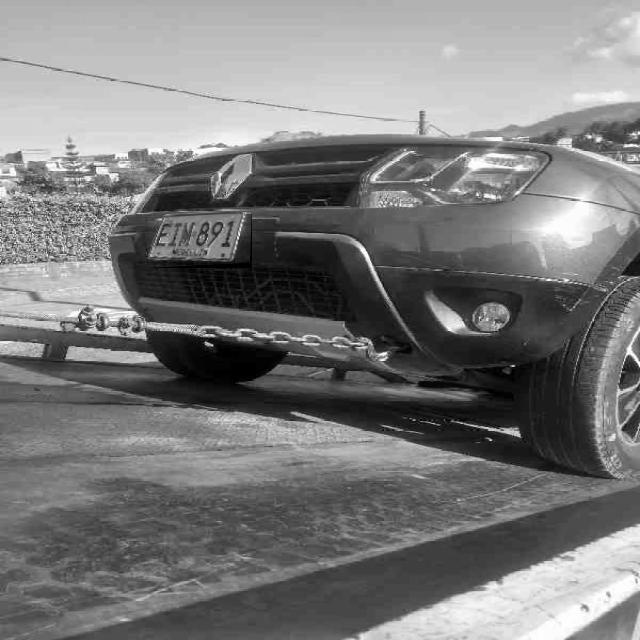plate: (148, 212, 252, 268)
